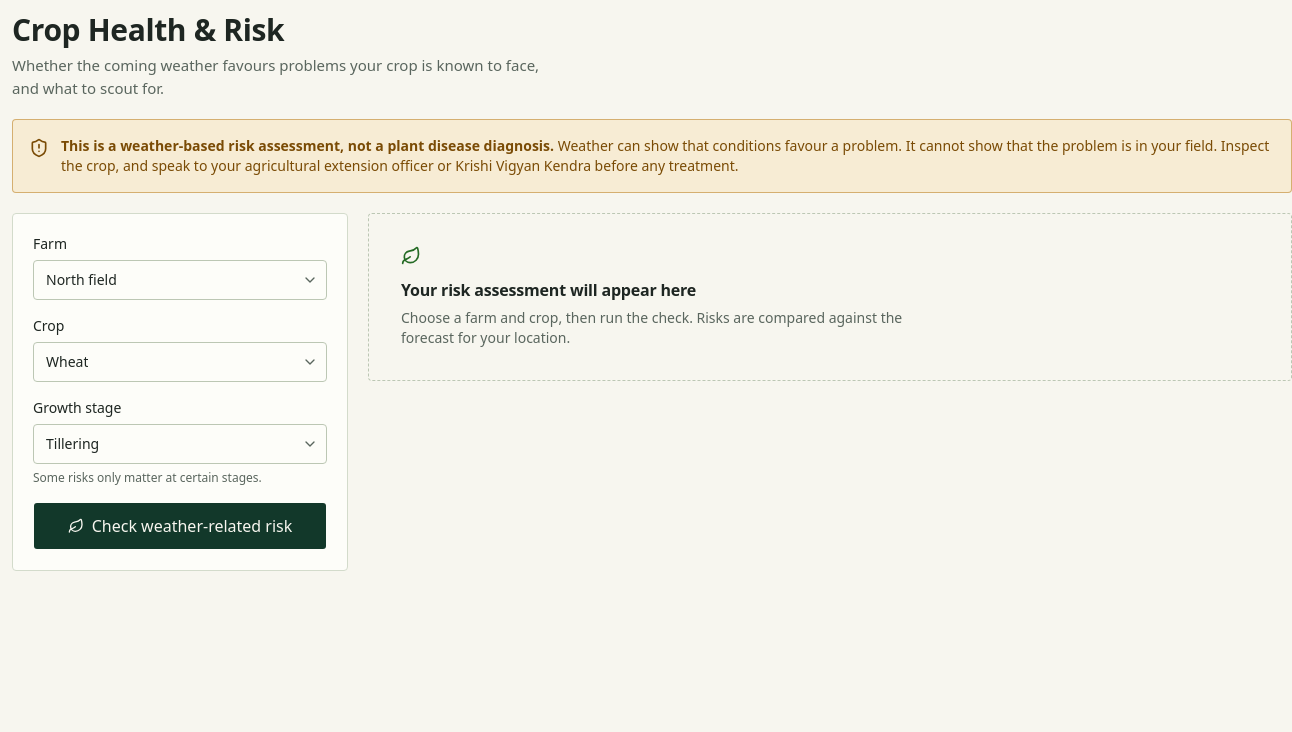
Test case: CropHealthPage › assesses nothing when the weather is unavailable, and says why
Step 1. Click the button "Check weather-related risk" → (180, 526), box left=33, top=502, right=327, bottom=550
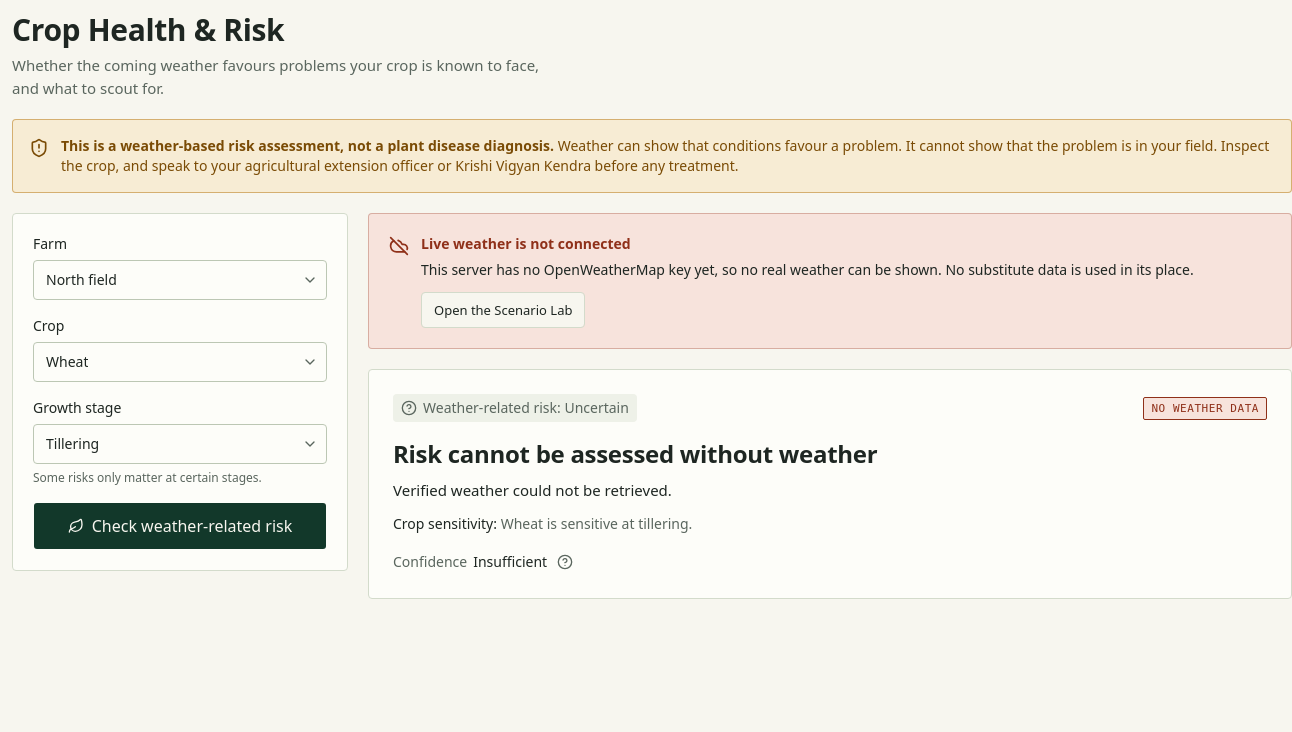
Expected: the element with test id "risk-result" is shown, left=368, top=213, right=1291, bottom=599
Expected: the message shows "Live weather is not connected", left=421, top=234, right=631, bottom=253
Expected: the text "No weather data" is shown, left=1143, top=396, right=1267, bottom=420
